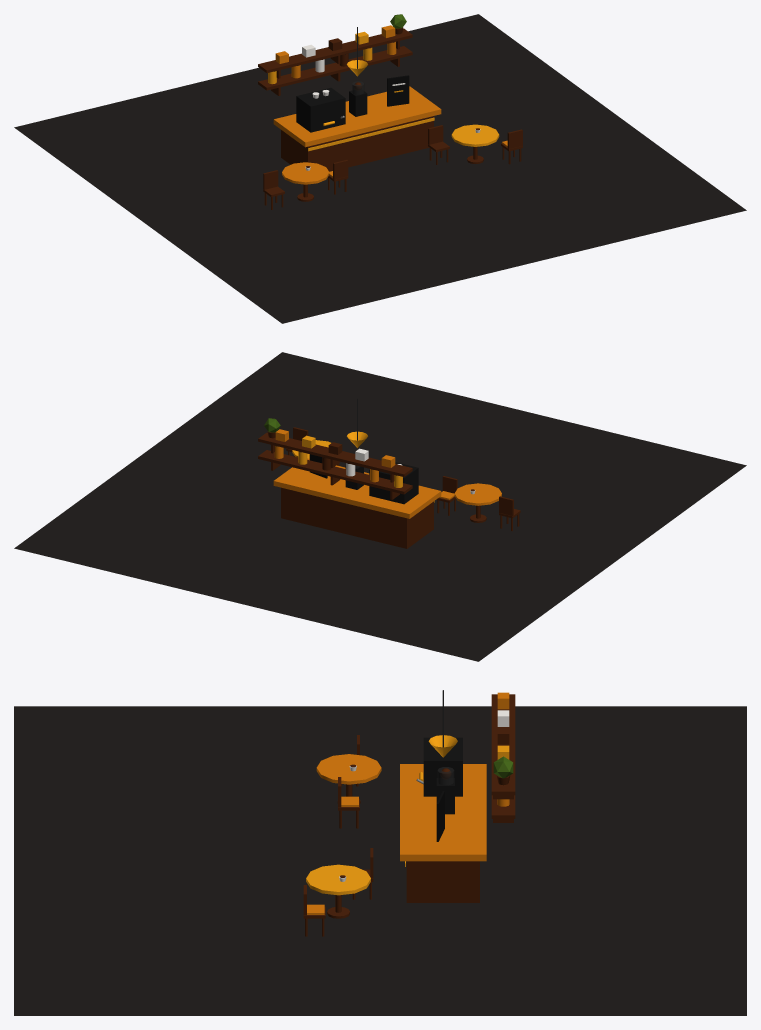
File: coffee.glb
The picture shows the model from 3 angles, top to bottom: view 1: azimuth 30°, elevation 25°; view 2: azimuth 150°, elevation 25°; view 3: azimuth 270°, elevation 25°; orthographic projection. The views are drawn at different scales.
Visible parts, largest first — view 1: CoffeeShop_LowPoly; view 2: CoffeeShop_LowPoly; view 3: CoffeeShop_LowPoly.
Part boxes in pixels (bbox=[...]): CoffeeShop_LowPoly: bbox=[14, 14, 746, 323]; CoffeeShop_LowPoly: bbox=[14, 352, 746, 661]; CoffeeShop_LowPoly: bbox=[14, 690, 746, 1015].
Size of the model in its own units: 14 by 3.6 by 14.
